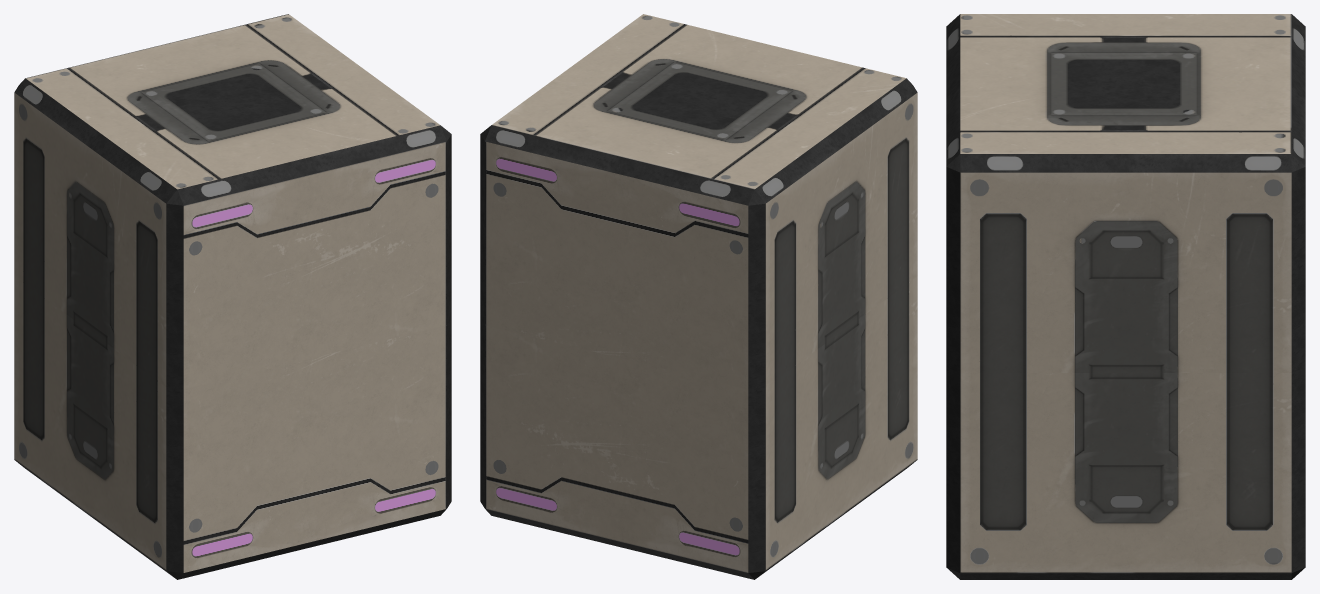
Rendered from CratePanelTall.fbx.
3 views of the same model, side by side, from view 1: azimuth 30°, elevation 25°; view 2: azimuth 150°, elevation 25°; view 3: azimuth 270°, elevation 25° (orthographic). The views are drawn at different scales.
Visible parts, largest first — view 1: CratePanelTall; view 2: CratePanelTall; view 3: CratePanelTall.
Part boxes in pixels (bbox=[...]): CratePanelTall: bbox=[14, 14, 451, 579]; CratePanelTall: bbox=[480, 14, 917, 579]; CratePanelTall: bbox=[946, 14, 1305, 579].
Size of the model in its own units: 46.06 by 60.23 by 46.06.
